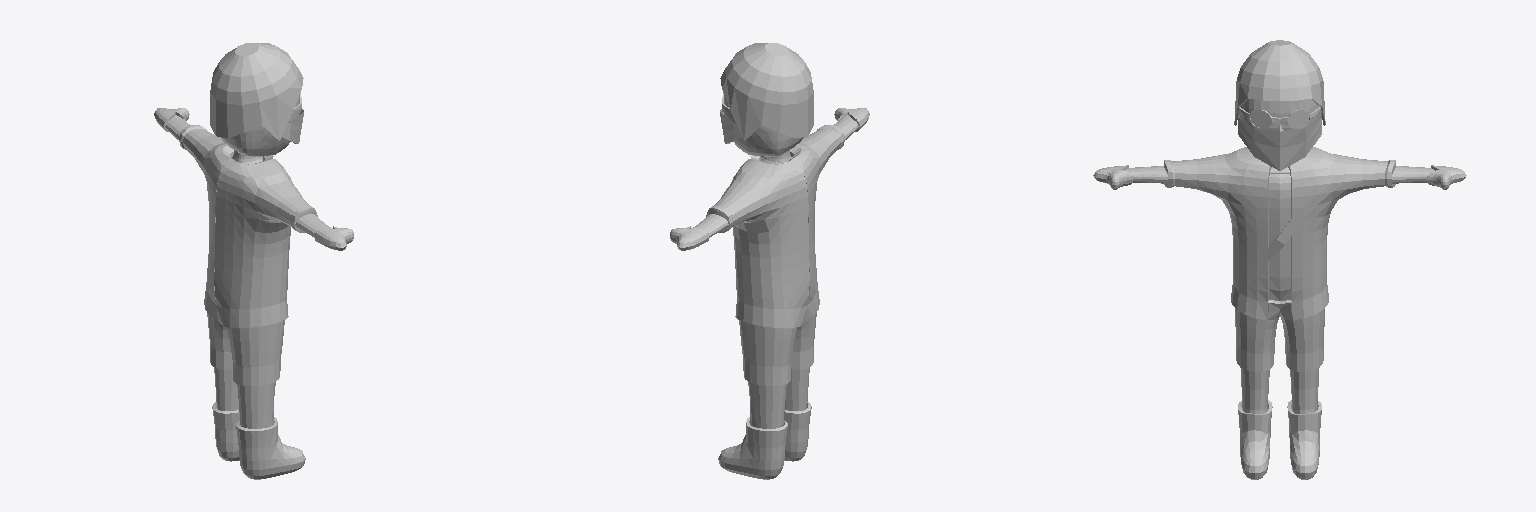
The model's file is character.obj.
The picture shows the model from 3 angles: view 1: azimuth 30°, elevation 25°; view 2: azimuth 150°, elevation 25°; view 3: azimuth 270°, elevation 25°; orthographic projection.
Visible parts, largest first — view 1: Cube.003, Circle, Cube, Cube.004, Cube.006; view 2: Cube.003, Circle, Cube, Cube.004, Cube.006; view 3: Cube.003, Cube, Cube.004, Circle, Plane.001, Cube.006, Circle.001.
Part boxes in pixels (left/top/right/bottom): Cube.003: left=179, top=125, right=317, bottom=479; Circle: left=210, top=43, right=303, bottom=140; Cube: left=165, top=95, right=330, bottom=428; Cube.004: left=207, top=313, right=284, bottom=385; Cube.006: left=154, top=108, right=353, bottom=250; Cube.003: left=706, top=125, right=844, bottom=479; Circle: left=720, top=43, right=813, bottom=140; Cube: left=693, top=95, right=858, bottom=428; Cube.004: left=739, top=313, right=816, bottom=385; Cube.006: left=670, top=108, right=869, bottom=250; Cube.003: left=1164, top=147, right=1395, bottom=479; Cube: left=1125, top=99, right=1434, bottom=413; Cube.004: left=1235, top=300, right=1324, bottom=371; Circle: left=1234, top=40, right=1325, bottom=125; Plane.001: left=1238, top=118, right=1321, bottom=170; Cube.006: left=1093, top=165, right=1466, bottom=189; Circle.001: left=1238, top=107, right=1321, bottom=128.
Bounding box in the file's own units: 1.81 × 8.73 × 6.99.